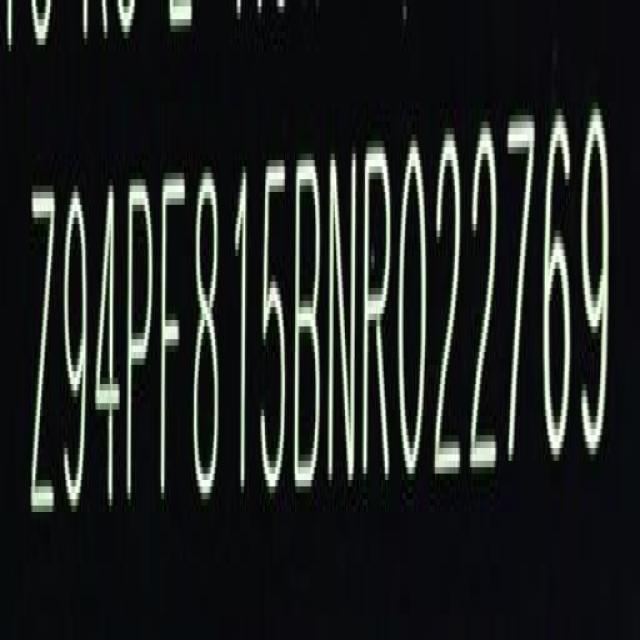0: (396, 138, 428, 472)
1: (231, 163, 250, 502)
2: (468, 126, 501, 469), (435, 126, 465, 481)
4: (92, 183, 120, 507)
5: (259, 158, 288, 491)
6: (542, 105, 573, 458)
7: (508, 121, 536, 467)
8: (192, 176, 220, 510)
9: (578, 102, 609, 457), (60, 187, 89, 519)
B: (293, 147, 322, 488)
F: (158, 166, 186, 502)
N: (327, 156, 357, 479)
P: (125, 178, 153, 507)
R: (364, 154, 392, 477)
Z: (30, 168, 59, 526)
